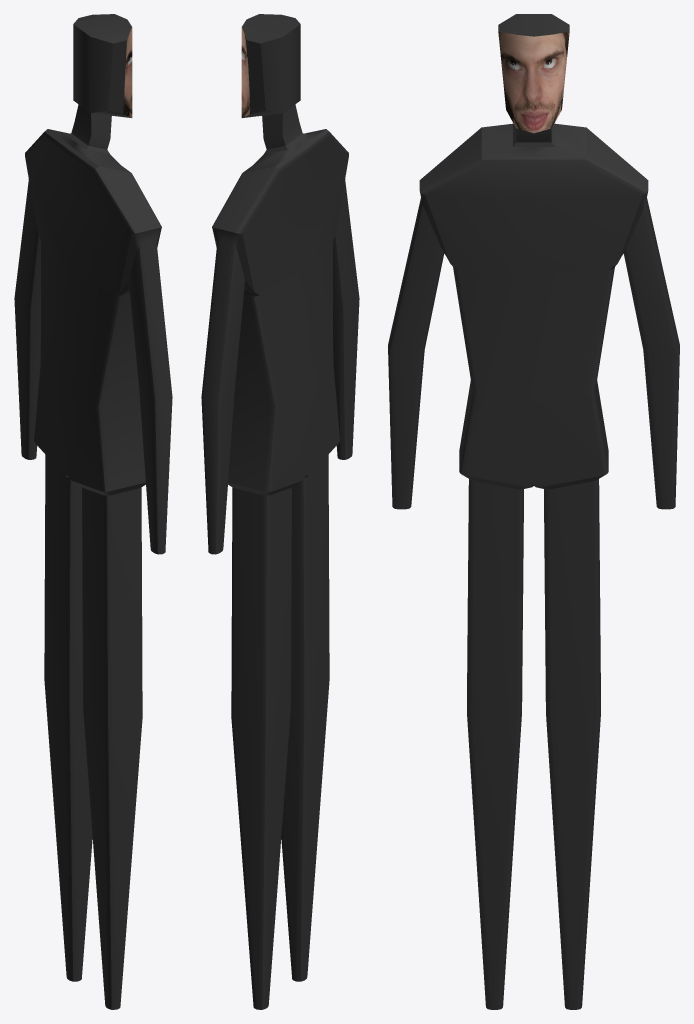
The model's file is deer_dead.fbx.
3 views of the same model, side by side, from view 1: azimuth 30°, elevation 25°; view 2: azimuth 150°, elevation 25°; view 3: azimuth 270°, elevation 25° (orthographic). The views are drawn at different scales.
Parts seen in each view (by area): view 1: deer_dead; view 2: deer_dead; view 3: deer_dead.
Boxes of the visible parts, <box> form: deer_dead: <box>14,14,172,1009</box>; deer_dead: <box>201,14,359,1009</box>; deer_dead: <box>388,14,679,1009</box>.
Size of the model in its own units: 0.7035 by 10.93 by 2.93.
